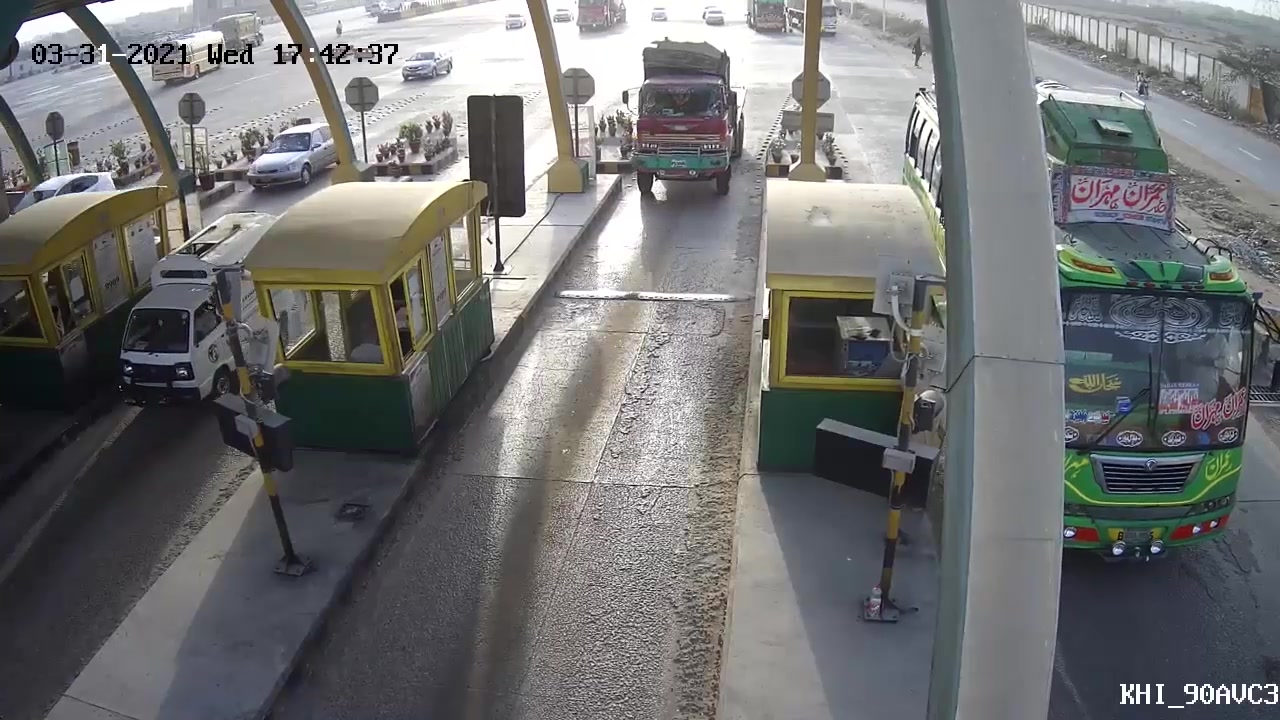F5: (620, 40, 748, 211)
